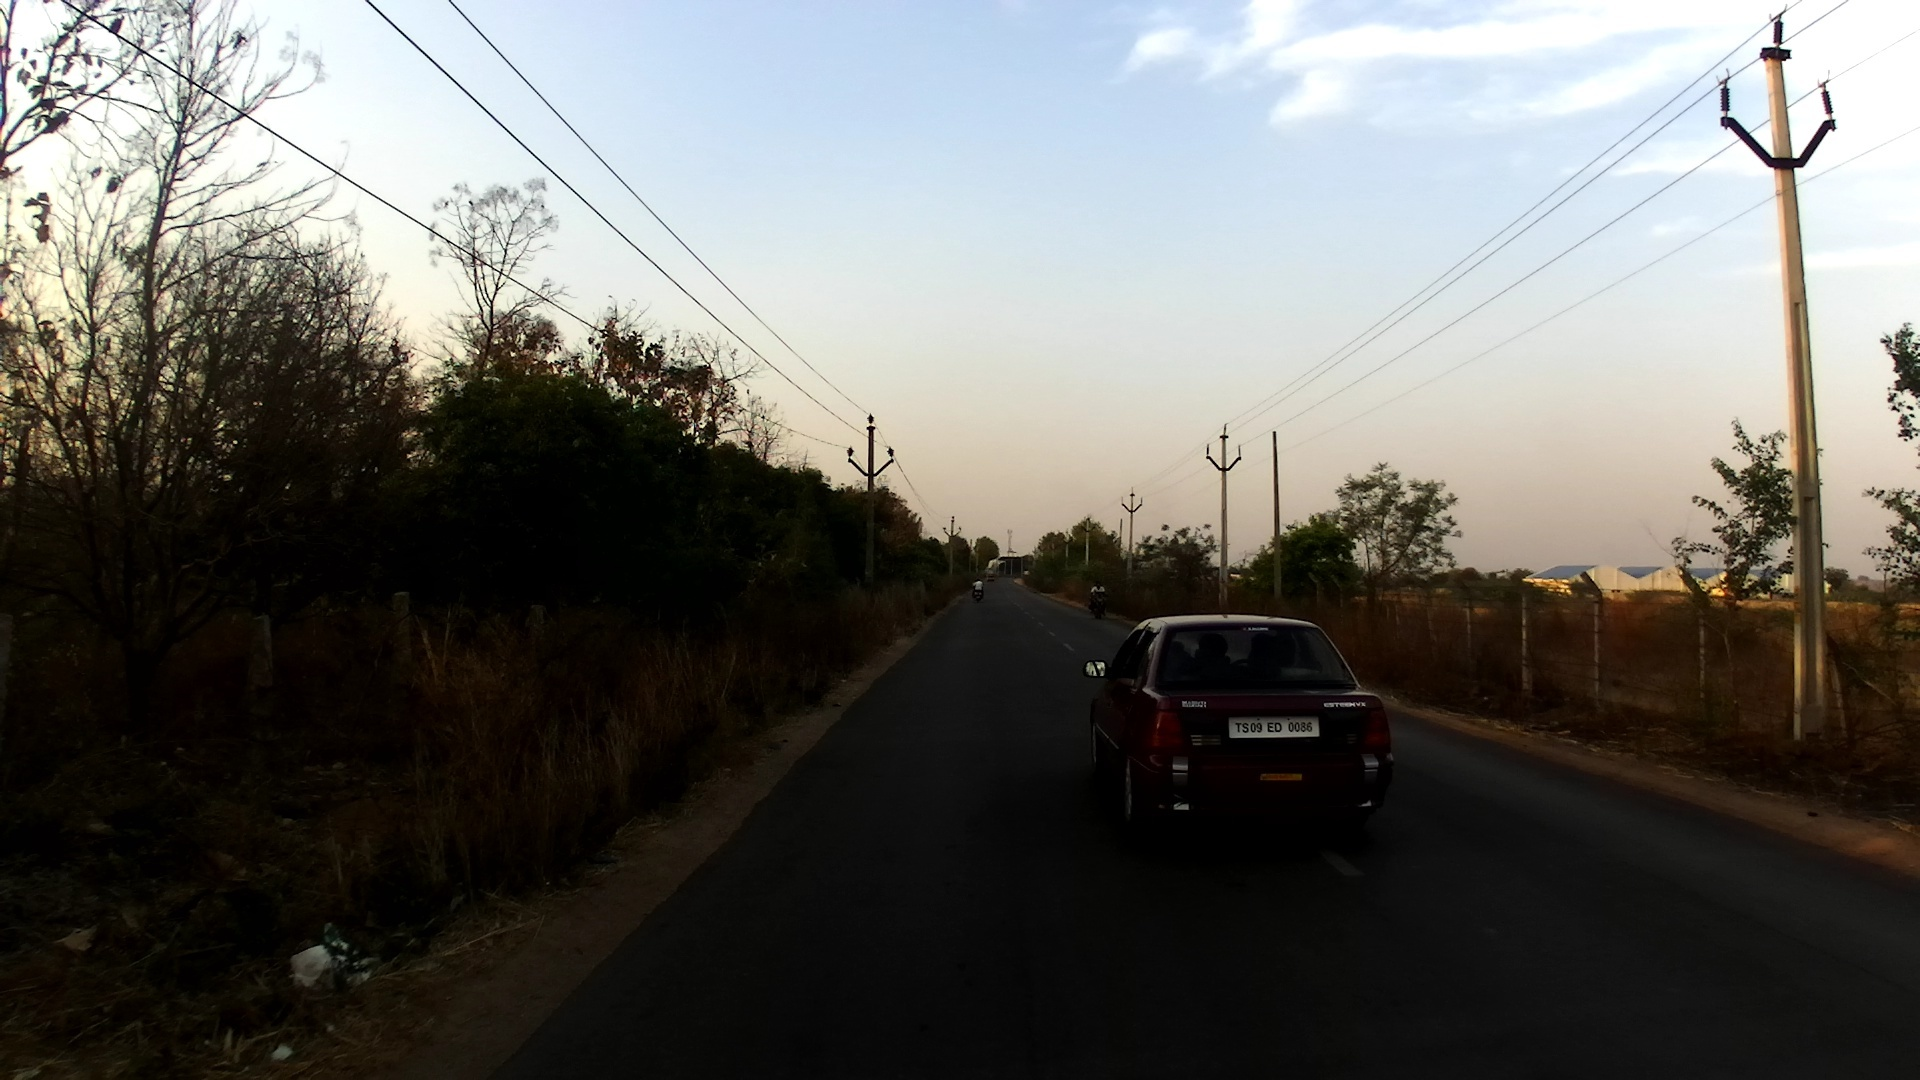autorickshaw: (986, 569, 996, 582)
car: (1085, 613, 1393, 861)
motorcycle: (1089, 588, 1109, 620), (971, 585, 986, 603)
rider: (1089, 582, 1107, 618), (972, 576, 987, 596)
vehicle fallback: (1025, 569, 1031, 576)
